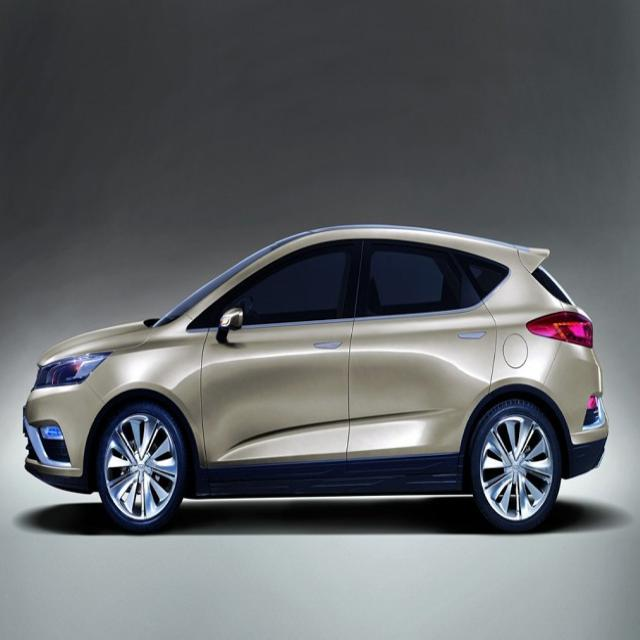back_left_side_light: (526, 308, 596, 352)
door: (357, 232, 500, 477)
front_left_side_door: (201, 226, 361, 468)
front_left_side_light: (34, 349, 109, 392)
front_left_side_mirror: (218, 302, 244, 344)
wheel: (470, 394, 564, 532), (96, 396, 190, 534)
